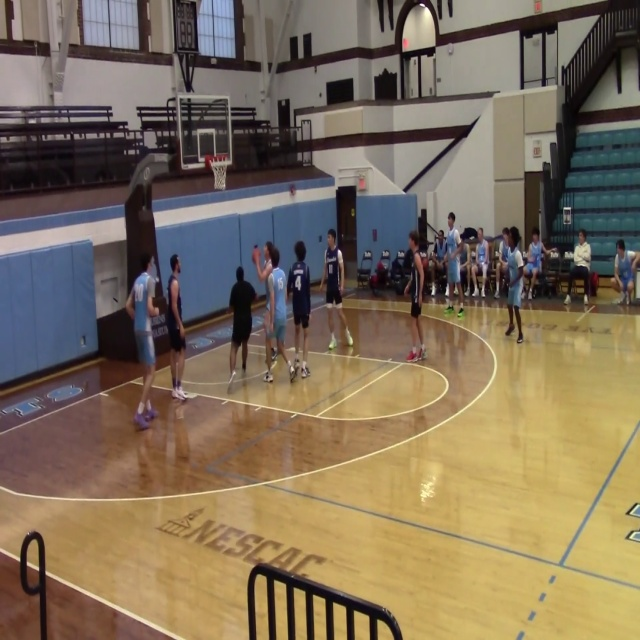Basketball: (152, 296, 167, 314), (444, 306, 454, 313)
